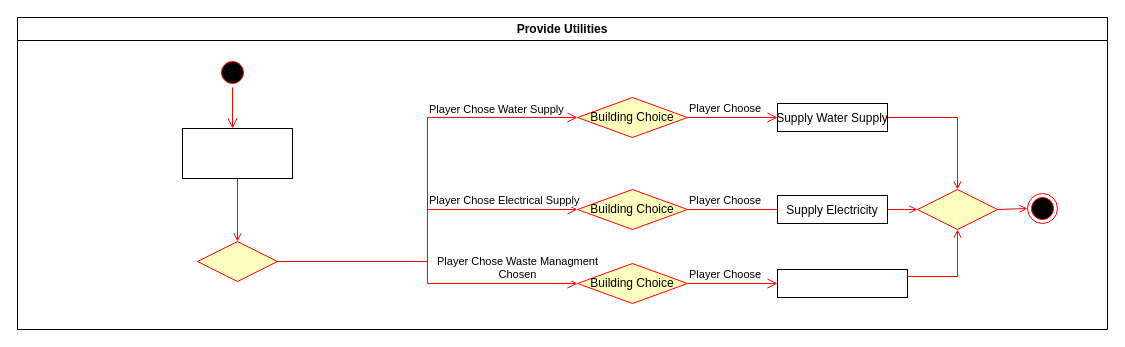
Image size: 1125x347. Some labels were removed from this diagram. Here are the shapes that lost their labels. From the top down, the box of each, then its label:
(182, 128, 292, 178): Chose the Requested Utilities
(776, 268, 908, 298): Supply Waste Managment
